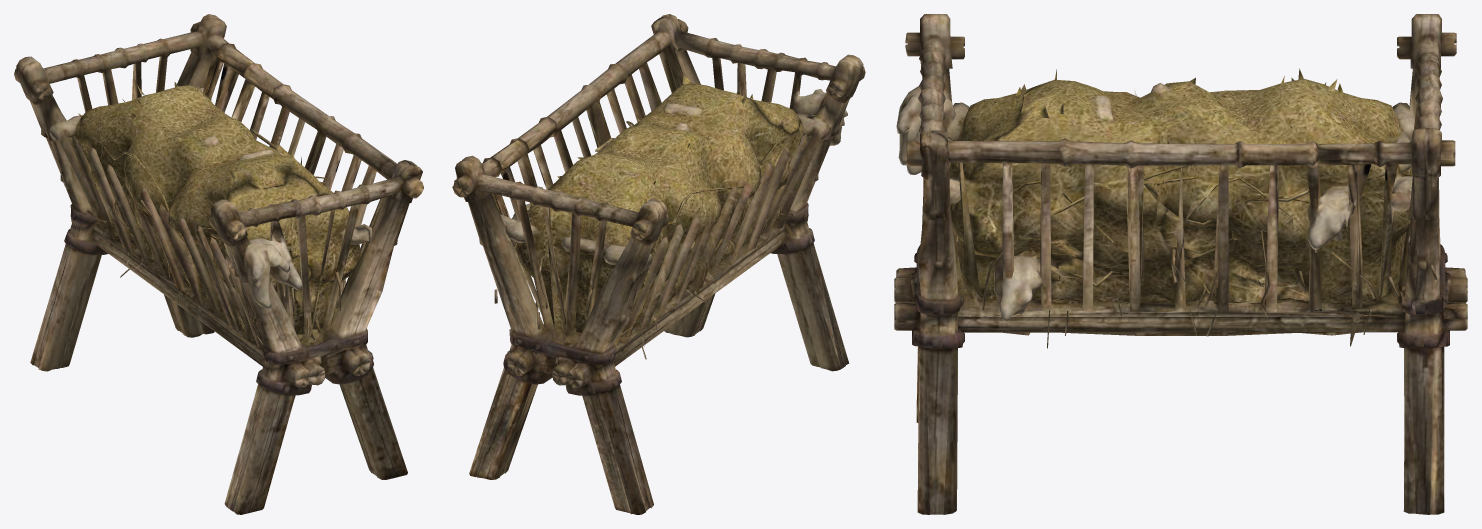
File: kit_sr_fodder_rack.glb
3 renders of one model, left to right at view 1: azimuth 30°, elevation 25°; view 2: azimuth 150°, elevation 25°; view 3: azimuth 270°, elevation 25°, orthographic. The views are drawn at different scales.
Visible parts, largest first — view 1: kit_sr_fodder_rack; view 2: kit_sr_fodder_rack; view 3: kit_sr_fodder_rack.
Part boxes in pixels (x1=…): kit_sr_fodder_rack: x1=14, y1=14, x2=423, y2=514; kit_sr_fodder_rack: x1=452, y1=14, x2=865, y2=514; kit_sr_fodder_rack: x1=894, y1=14, x2=1467, y2=514.
Size of the model in its own units: 1.03 by 1.5 by 2.
1 material, 1 textured.
